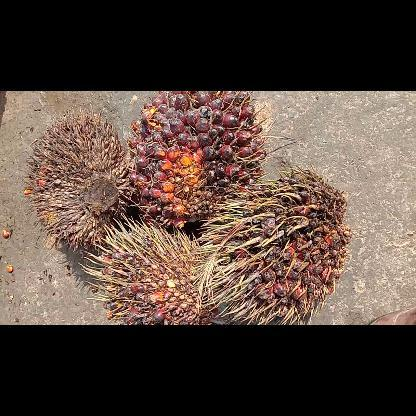Kurang masak: (192, 166, 352, 324)
TBS abnormal: (25, 108, 129, 252), (81, 222, 221, 324)
Terlalu masak: (122, 90, 266, 226)
